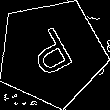P_SE: (23, 22, 80, 84)
